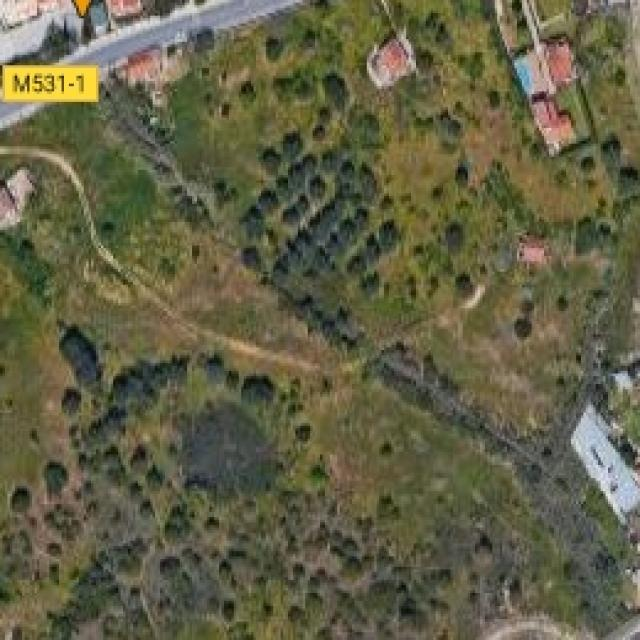pool: (511, 44, 538, 100)
